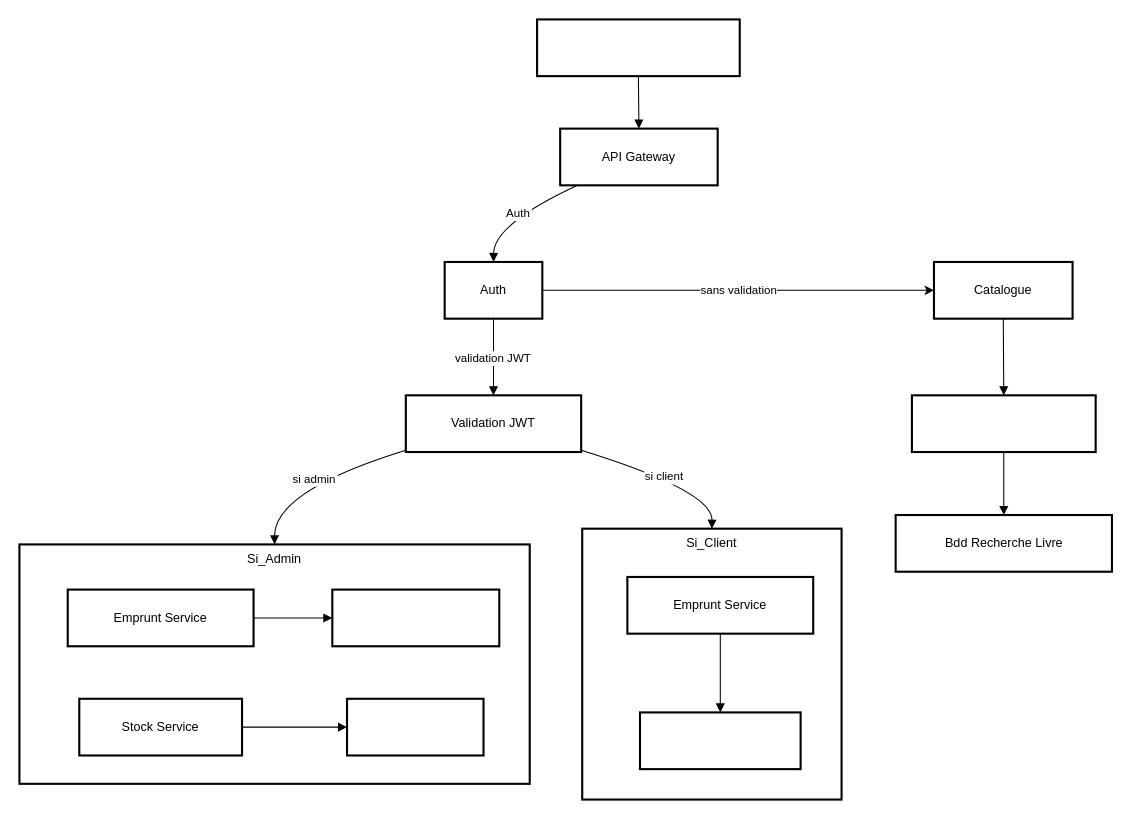
Some shapes in this 1131 by 818 pixel diagram are drawn without their labels. The shapes that lost their labels are listed below. From the top down, each one's centre as x and y in pixels, then its label:
the point at 638,47: Client Web/Mobile
the point at 1003,423: Recherche Livre
the point at 415,617: Bdd Emprunts
the point at 414,726: Bdd Stock
the point at 719,740: Bdd Emprunt
